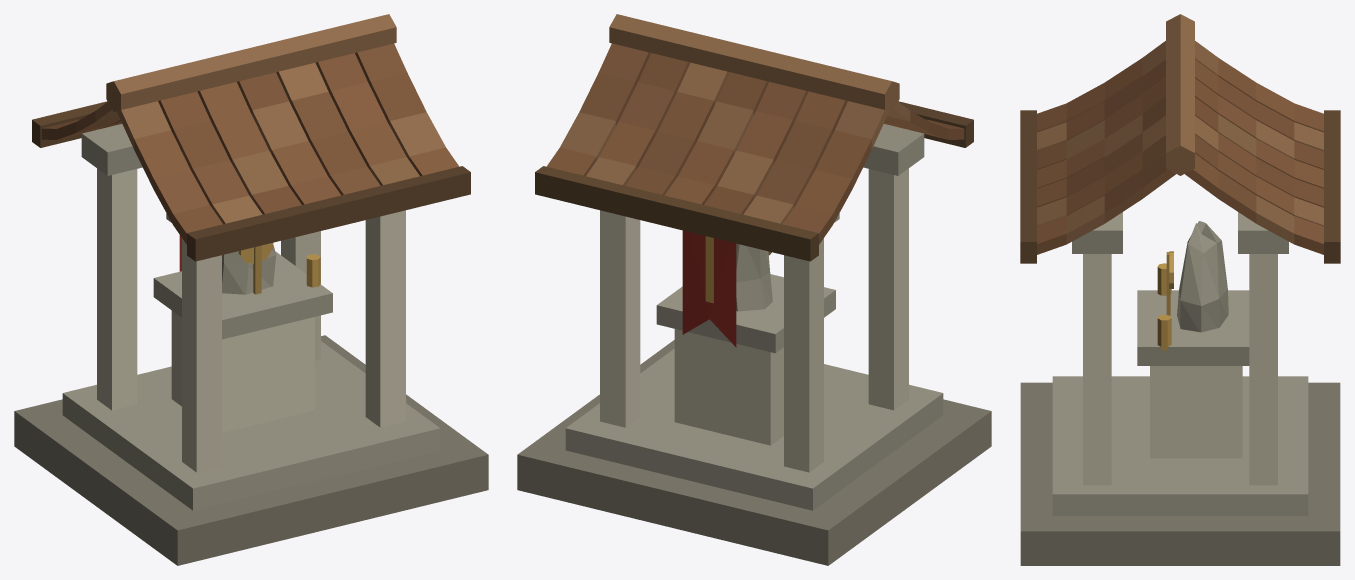
The model's file is wayside-shrine.glb.
3 renders of one model, left to right at view 1: azimuth 30°, elevation 25°; view 2: azimuth 150°, elevation 25°; view 3: azimuth 270°, elevation 25°, orthographic. The views are drawn at different scales.
Parts seen in each view (by area): view 1: wayside-shrine; view 2: wayside-shrine; view 3: wayside-shrine.
Boxes of the visible parts, bbox=[...] form: wayside-shrine: bbox=[14, 14, 488, 565]; wayside-shrine: bbox=[517, 14, 991, 565]; wayside-shrine: bbox=[1020, 14, 1340, 565].
Size of the model in its own units: 2.2 by 2.85 by 2.01.
